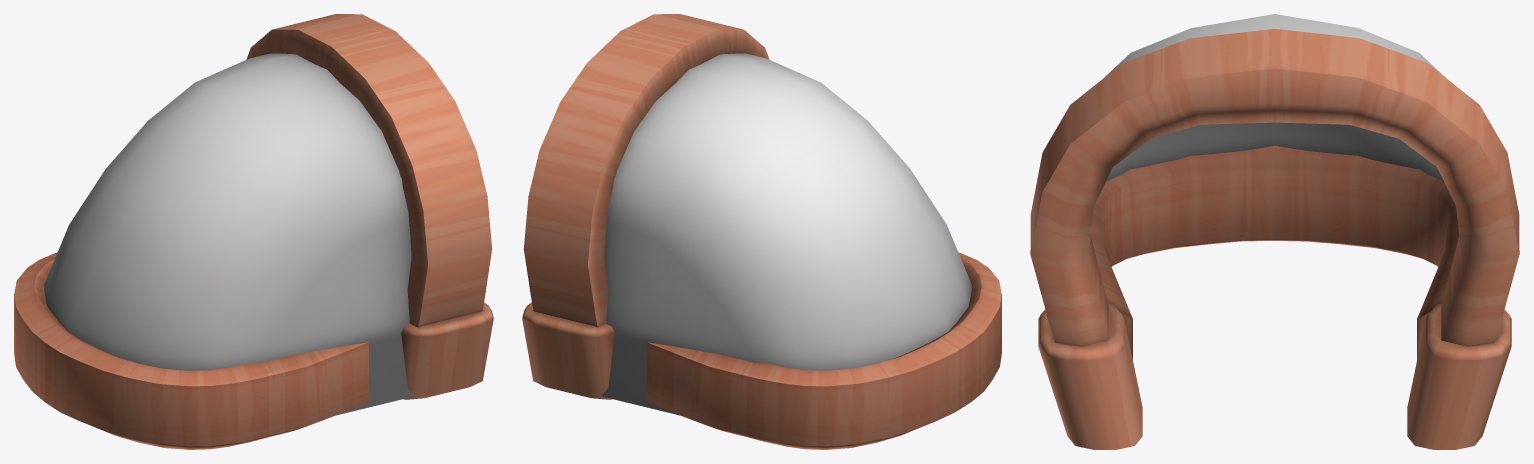
The model's file is Ham.fbx.
3 views of the same model, side by side, from view 1: azimuth 30°, elevation 25°; view 2: azimuth 150°, elevation 25°; view 3: azimuth 270°, elevation 25° (orthographic). The views are drawn at different scales.
Parts seen in each view (by area): view 1: Ham; view 2: Ham; view 3: Ham.
Boxes of the visible parts, x1,y1,x2,y2 form: Ham: (14, 14, 493, 449); Ham: (522, 14, 1001, 449); Ham: (1030, 14, 1519, 449).
Size of the model in its own units: 193 by 150 by 176.
